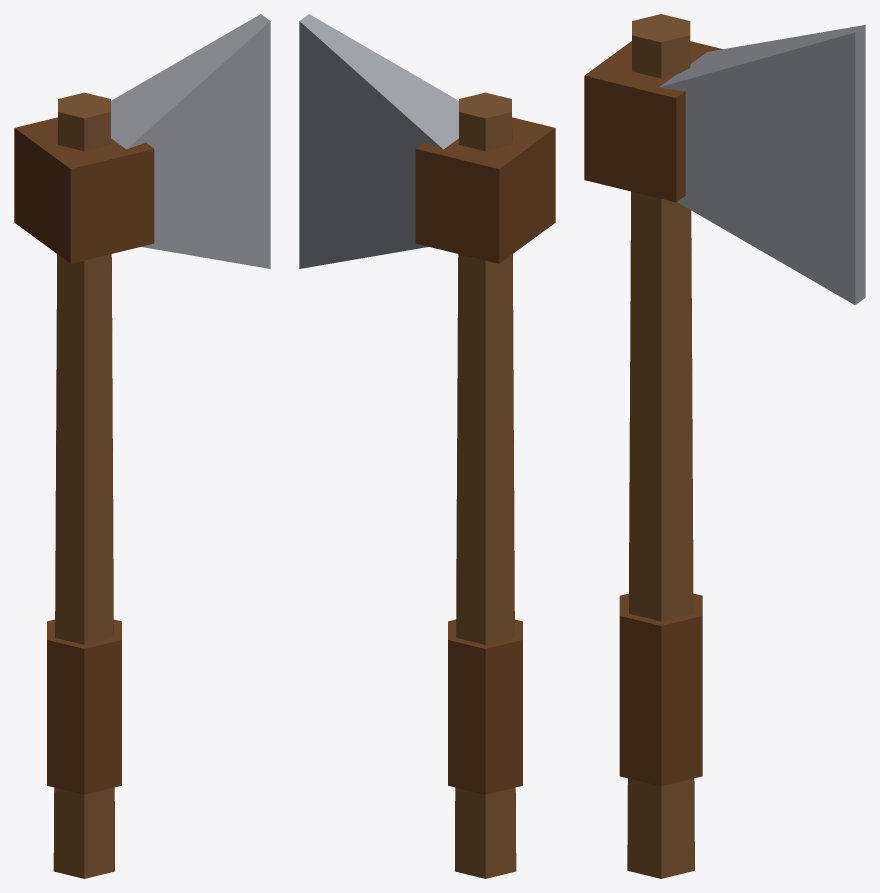
The model's file is Hatchet.obj.
The picture shows the model from 3 angles, left to right: view 1: azimuth 30°, elevation 25°; view 2: azimuth 150°, elevation 25°; view 3: azimuth 330°, elevation 25°; orthographic projection. The views are drawn at different scales.
Visible parts, largest first — view 1: Grip, Blade; view 2: Grip, Blade; view 3: Grip, Blade.
Part boxes in pixels (bbox=[...]): Grip: bbox=[14, 92, 154, 878]; Blade: bbox=[111, 14, 270, 268]; Grip: bbox=[415, 92, 555, 878]; Blade: bbox=[299, 14, 458, 268]; Grip: bbox=[584, 14, 722, 878]; Blade: bbox=[659, 25, 865, 304].
Size of the model in its own units: 0.16 by 0.55 by 0.07.
